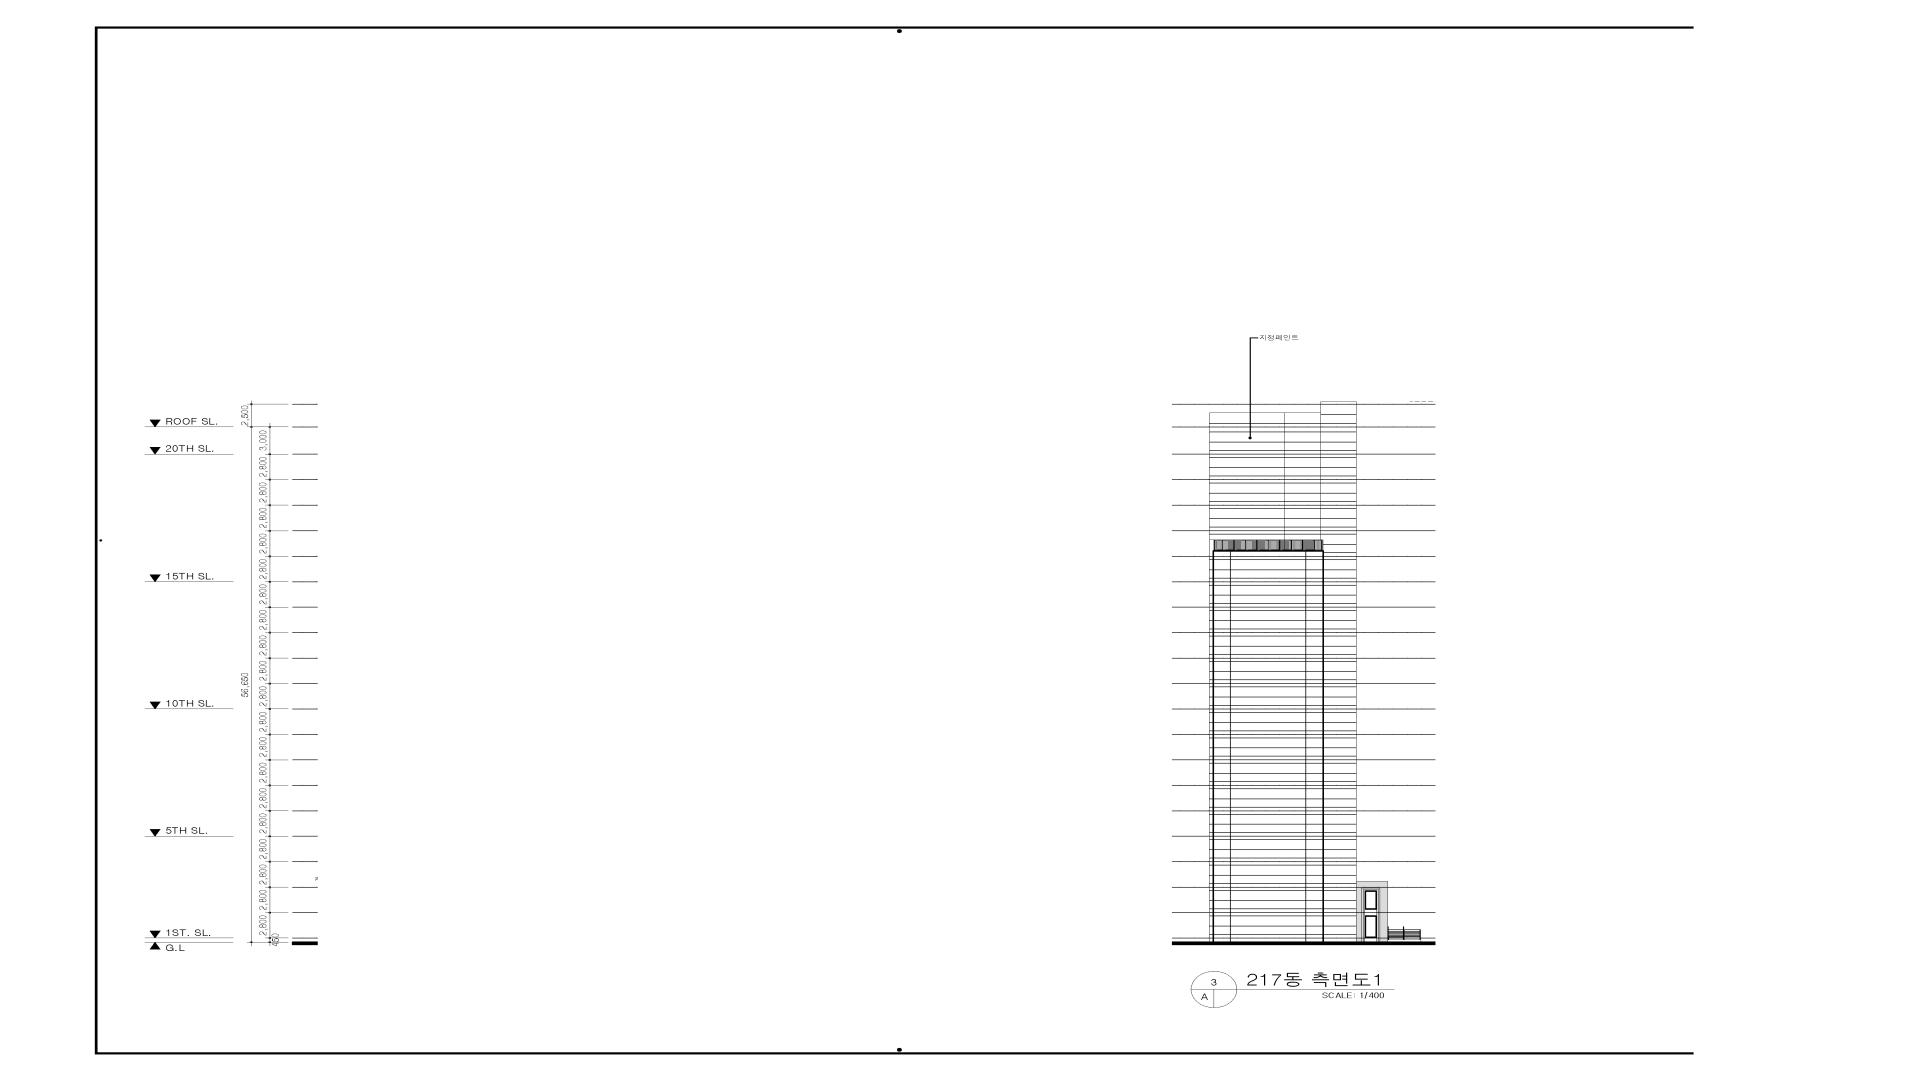background: (0, 0, 1920, 1080)
wall: (1209, 401, 1389, 942)
window: (1365, 915, 1377, 939), (1365, 890, 1377, 910)
